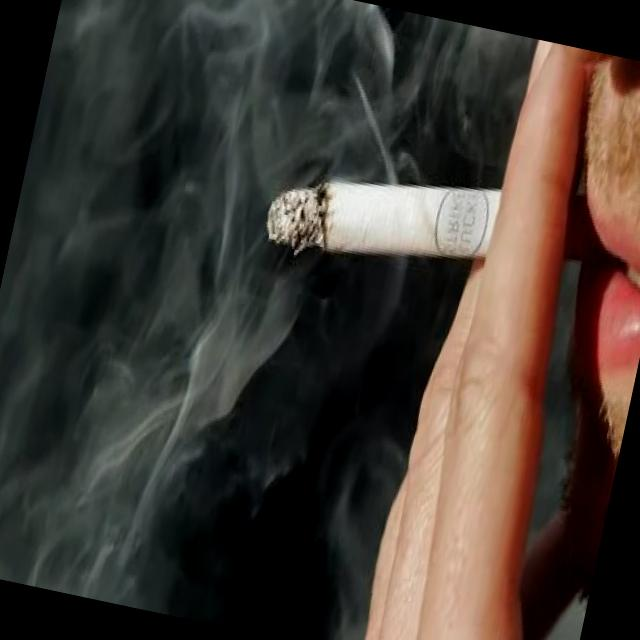smoke: (248, 110, 534, 312)
